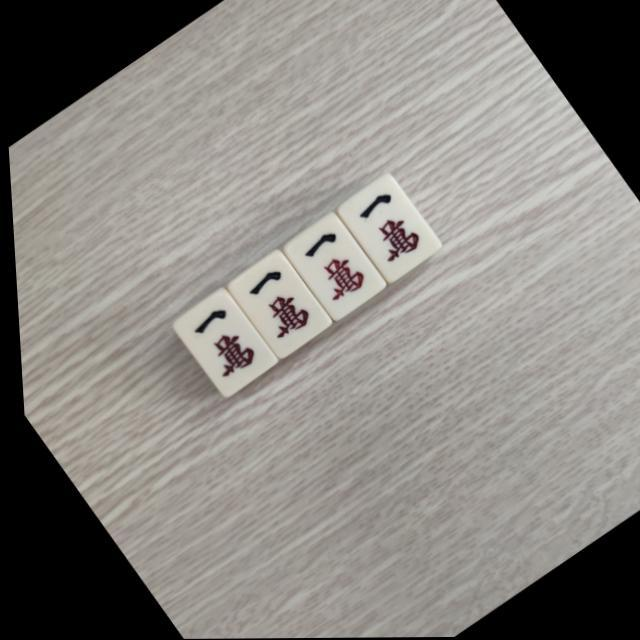sc1: (172, 292, 268, 392), (228, 255, 323, 352), (284, 216, 378, 314), (340, 180, 430, 276)
